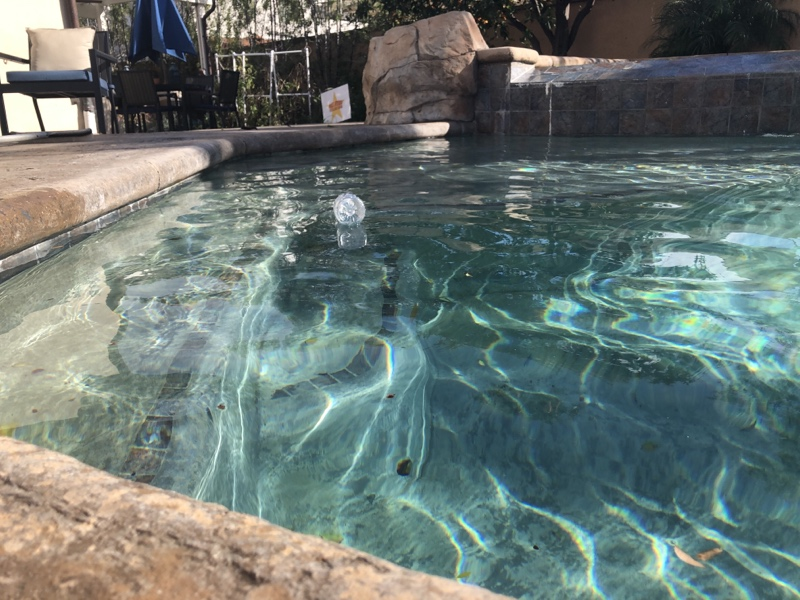Plastic Bottle: (332, 187, 368, 232)
